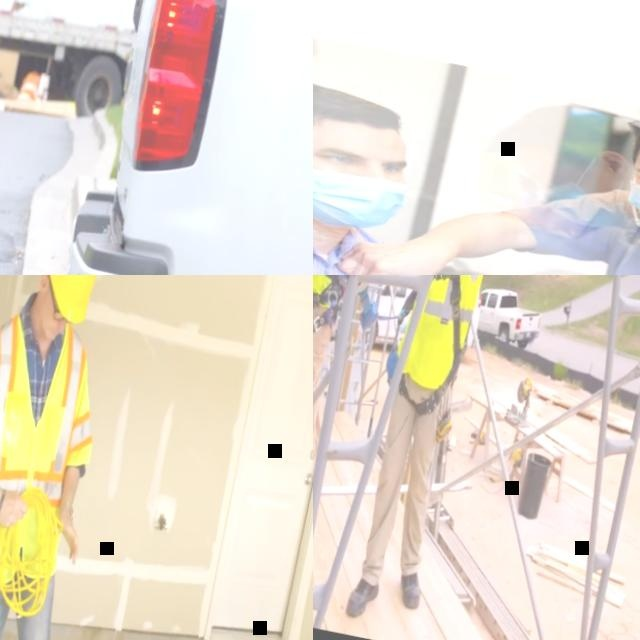Hardhat: (33, 275, 106, 324)
Mask: (313, 159, 409, 240), (519, 173, 626, 230)
NO-Hardhat: (478, 89, 640, 176), (313, 68, 412, 157), (497, 256, 595, 275)
NO-Mask: (34, 298, 64, 343)
Person: (329, 275, 526, 631), (342, 49, 640, 275), (0, 275, 159, 640), (313, 42, 501, 275), (472, 84, 640, 219), (0, 0, 67, 275), (313, 275, 385, 493)
Safety Cone: (17, 71, 40, 102)
Safety Vest: (0, 304, 114, 522), (391, 275, 496, 394)
vehicle: (0, 0, 313, 275), (332, 275, 487, 360), (471, 285, 545, 350)
